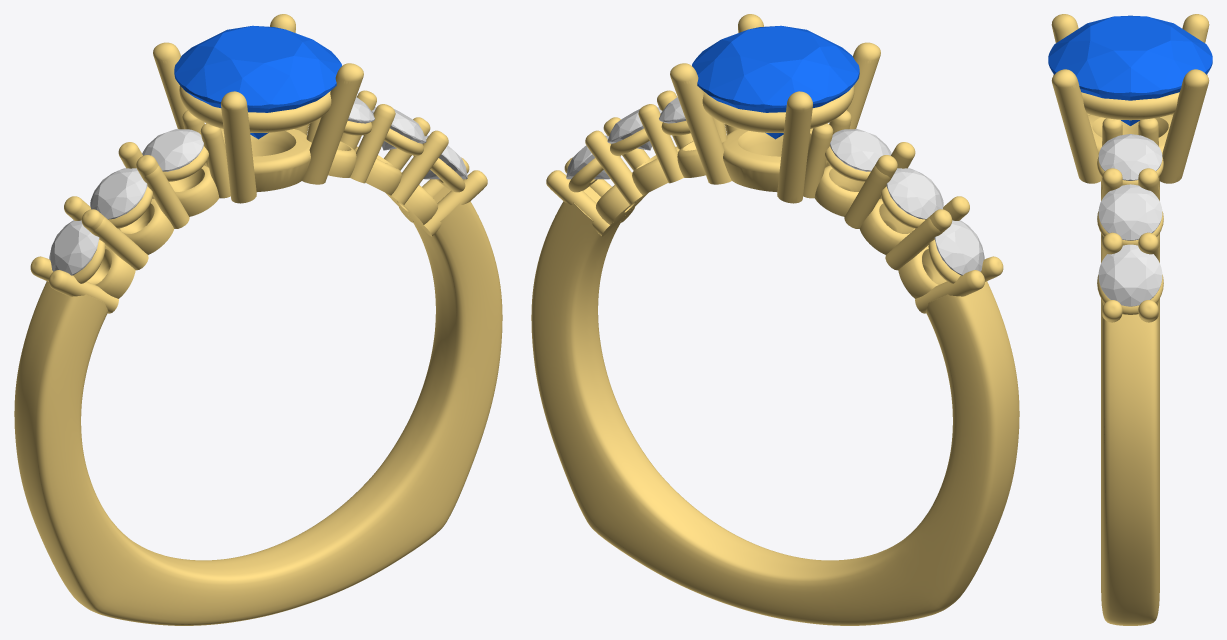
File: bluesapphire-round-yellowgold-4prong-europeanshank-3stone.glb
3 renders of one model, left to right at view 1: azimuth 30°, elevation 25°; view 2: azimuth 150°, elevation 25°; view 3: azimuth 270°, elevation 25°, orthographic. The views are drawn at different scales.
Parts seen in each view (by area): view 1: metal, stone, side.001, side.002, side, side.004; view 2: metal, stone, side.001, side.002, side, side.004; view 3: metal, stone, side.005, side.004, side.003.
Boxes of the visible parts, <box> form: metal: <box>14,14,502,625</box>; stone: <box>174,25,341,139</box>; side.001: <box>90,168,147,219</box>; side.002: <box>49,220,99,275</box>; side: <box>142,129,203,171</box>; side.004: <box>371,107,426,150</box>; metal: <box>531,14,1019,625</box>; stone: <box>692,25,859,139</box>; side.001: <box>886,168,943,219</box>; side.002: <box>934,220,984,275</box>; side: <box>830,129,891,171</box>; side.004: <box>607,107,662,150</box>; metal: <box>1051,14,1209,625</box>; stone: <box>1048,15,1212,125</box>; side.005: <box>1098,244,1162,306</box>; side.004: <box>1098,184,1162,240</box>; side.003: <box>1098,134,1162,180</box>.
Size of the model in its own units: 20.71 by 23.81 by 6.44.
